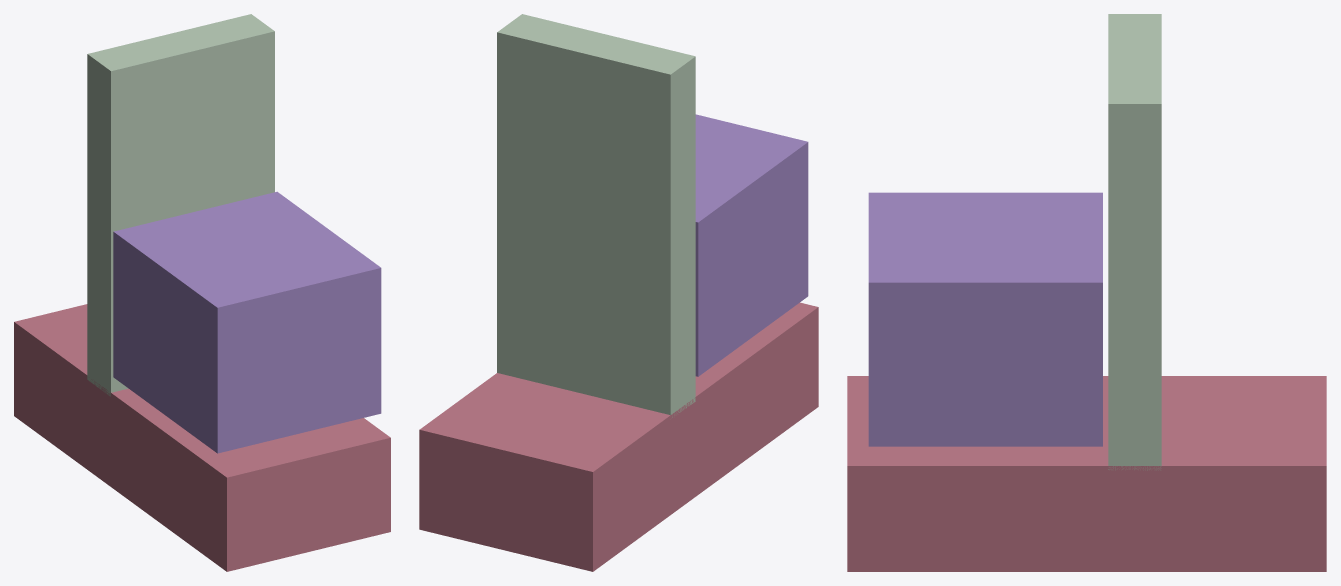
File: 199530_pred.glb
3 renders of one model, left to right at view 1: azimuth 30°, elevation 25°; view 2: azimuth 150°, elevation 25°; view 3: azimuth 270°, elevation 25°, orthographic. The views are drawn at different scales.
Parts seen in each view (by area): view 1: world; view 2: world; view 3: world.
Part boxes in pixels (bbox=[...]): world: bbox=[14, 14, 390, 571]; world: bbox=[419, 14, 818, 571]; world: bbox=[847, 14, 1326, 571].
Bounding box in the file's own units: 2 × 4.85 × 4.5.
